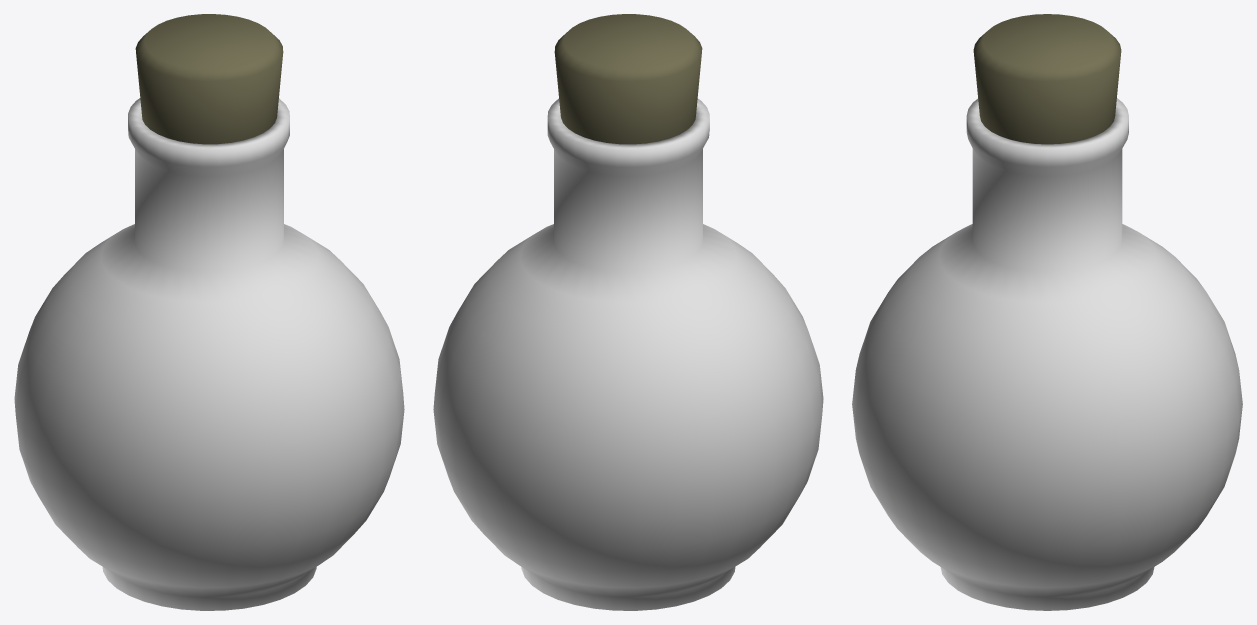
Rendered from Bottle.fbx.
3 views of the same model, side by side, from view 1: azimuth 30°, elevation 25°; view 2: azimuth 150°, elevation 25°; view 3: azimuth 270°, elevation 25° (orthographic).
Parts seen in each view (by area): view 1: Glass Bottle, Cap.001; view 2: Glass Bottle, Cap.001; view 3: Glass Bottle, Cap.001.
Boxes of the visible parts, x1,y1,x2,y2 form: Glass Bottle: (14,98,404,610); Cap.001: (135,14,283,144); Glass Bottle: (433,98,823,610); Cap.001: (554,14,702,144); Glass Bottle: (852,98,1242,610); Cap.001: (973,14,1121,144).
Bounding box in the file's own units: 200 × 296 × 200.
